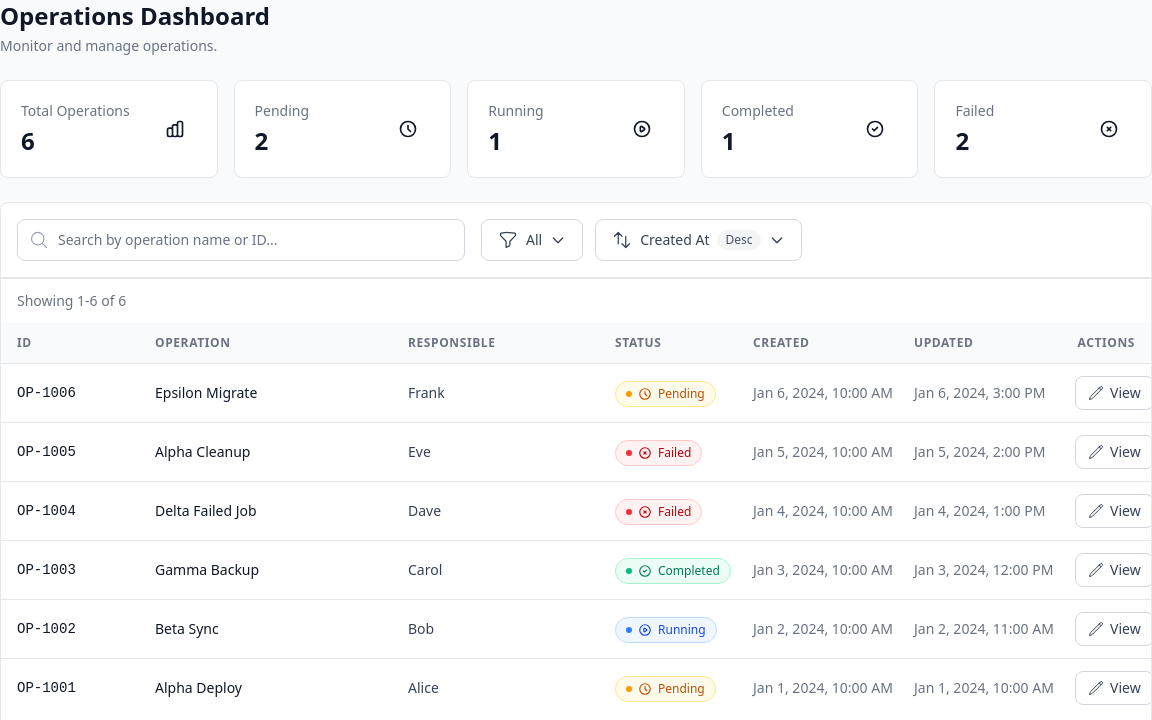
OperationsDashboard › does not show the previous search results after the new search fails
Step 1. Type "Alpha" into the search field named "Search operations" → (241, 240), box [17,219,465,261]
Wait 300 ms
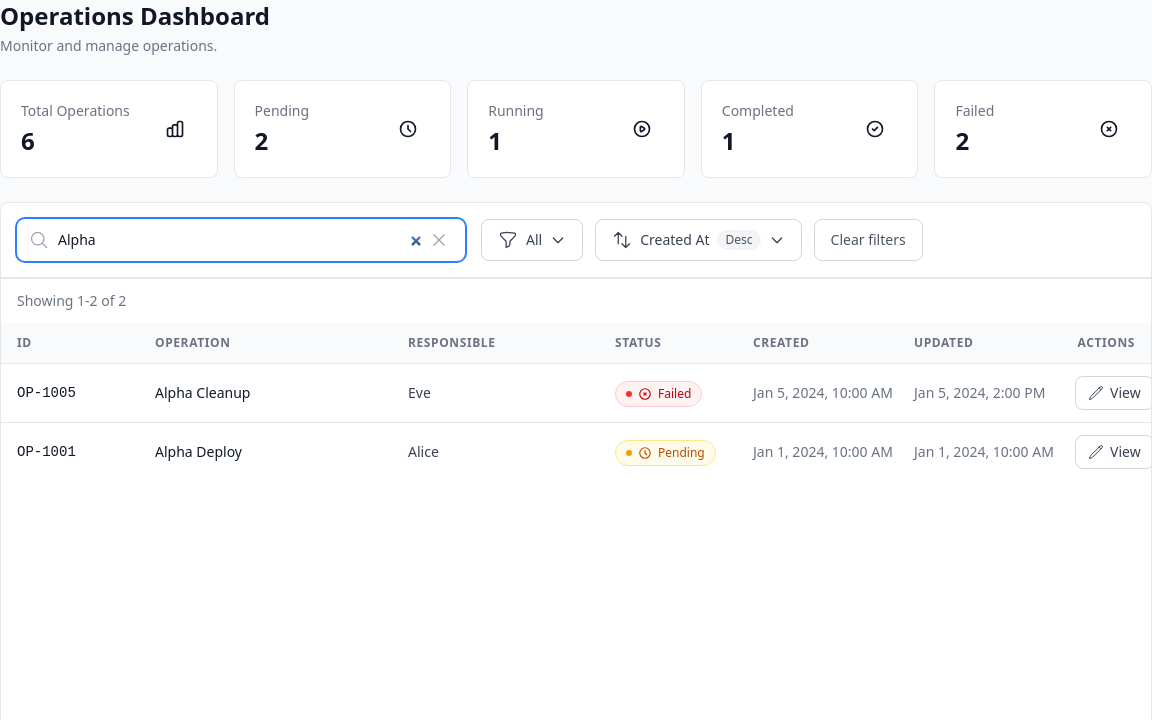
Expected: the text "Alpha Deploy" is shown, [139,422,392,481]
Step 2. Replace the text in the search field named "Search operations" with "1004" → (241, 240), box [17,219,465,261]
Wait 300 ms
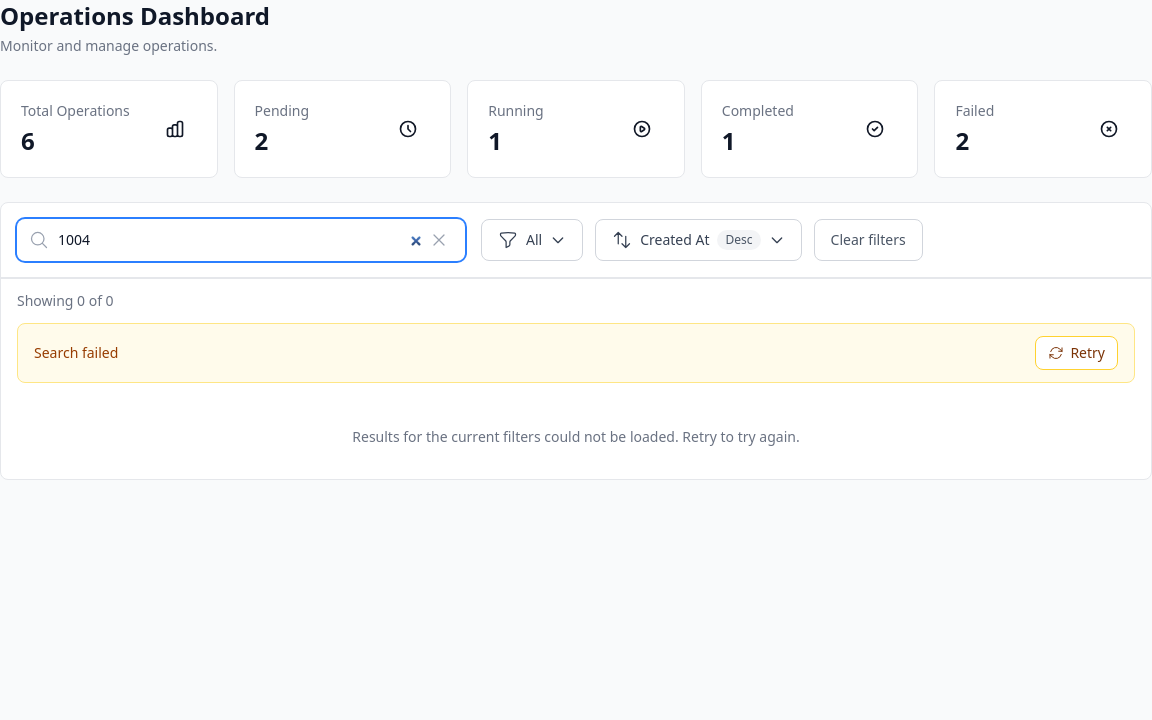
Now the message shows "Search failed", box [34,343,118,362]
Now the text "Alpha Deploy" is gone
Now the text "Alpha Cleanup" is gone
Step 3. Click the button "Retry" → (1077, 353), box [1035,336,1118,370]
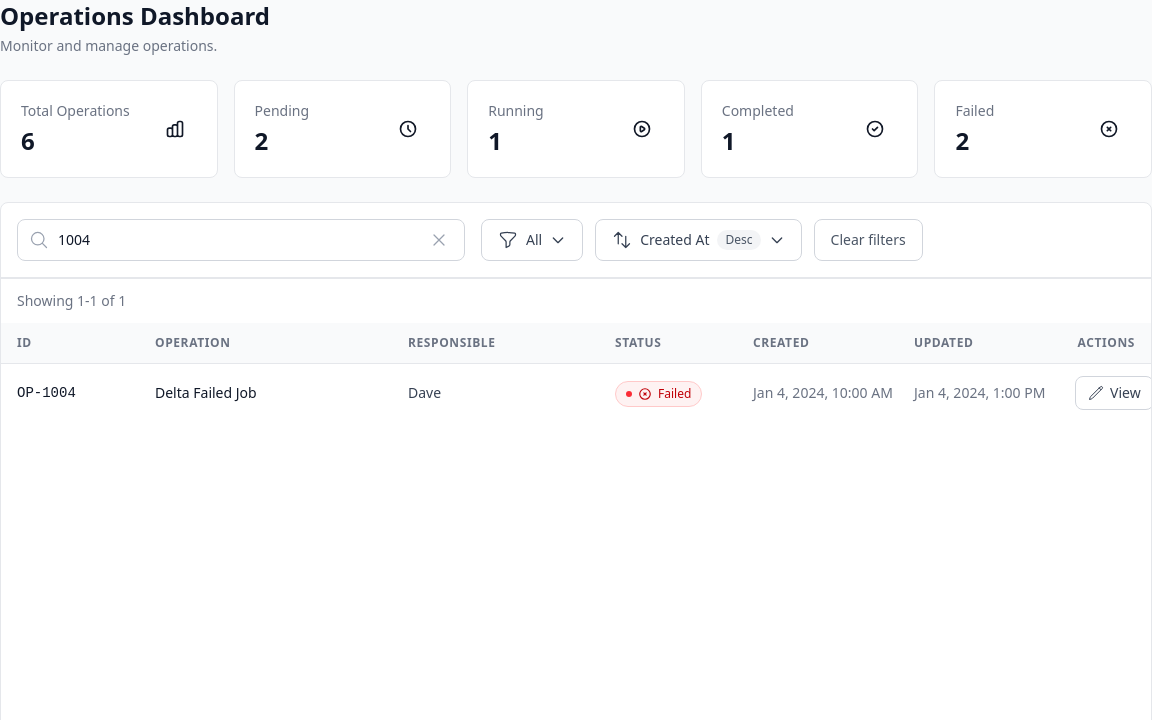
Now the text "Delta Failed Job" is shown, box [139,364,392,422]
